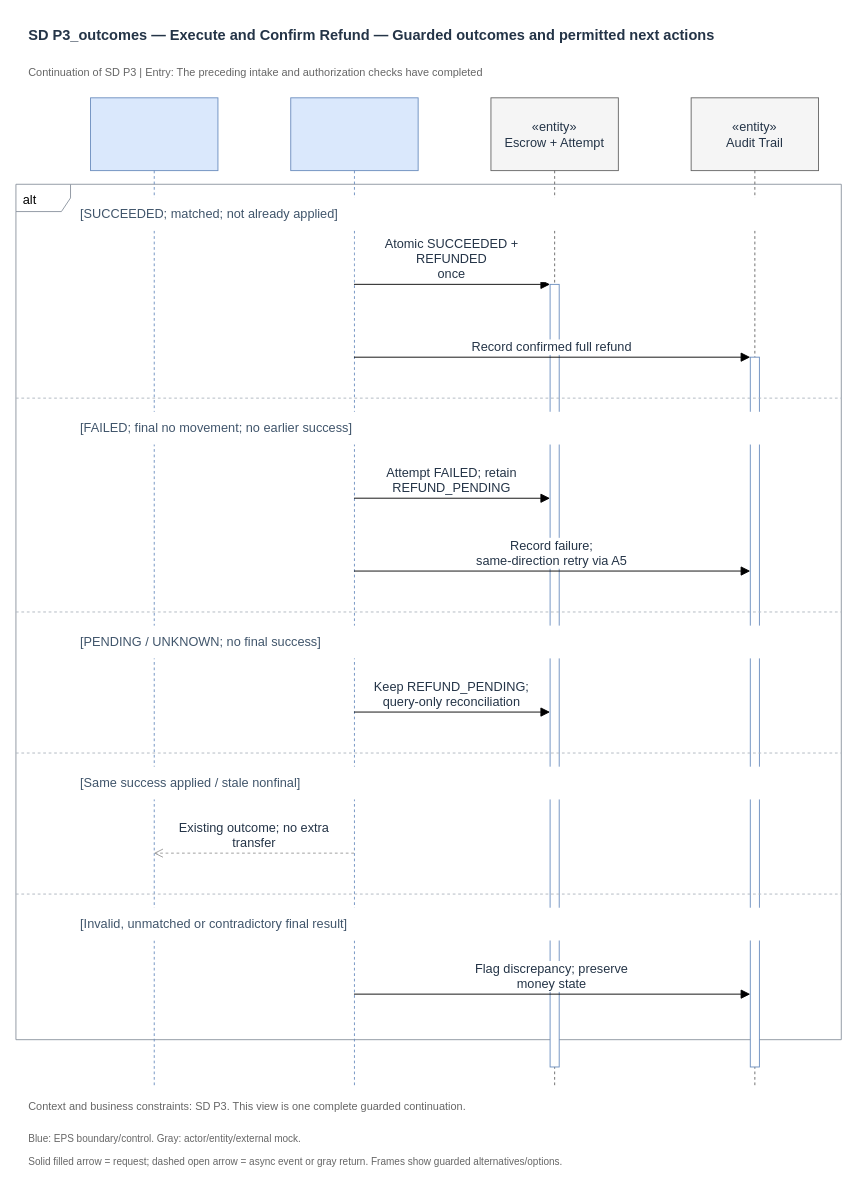
This 862x1190 diagram has some shape labels left out. The shapes that lost their labels are listed below. From the top down, each one's box as (x1, y1, x2, y2) in pixels, then its label:
(90, 97, 218, 1085): «boundary» Payment Boundary
(290, 97, 418, 1085): «control» Payment Control
